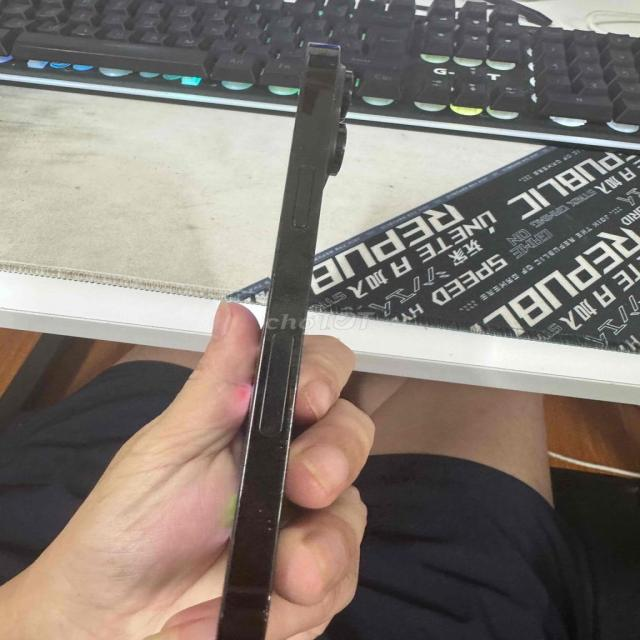scratch: (303, 44, 366, 119), (254, 500, 284, 640), (269, 379, 302, 461)
